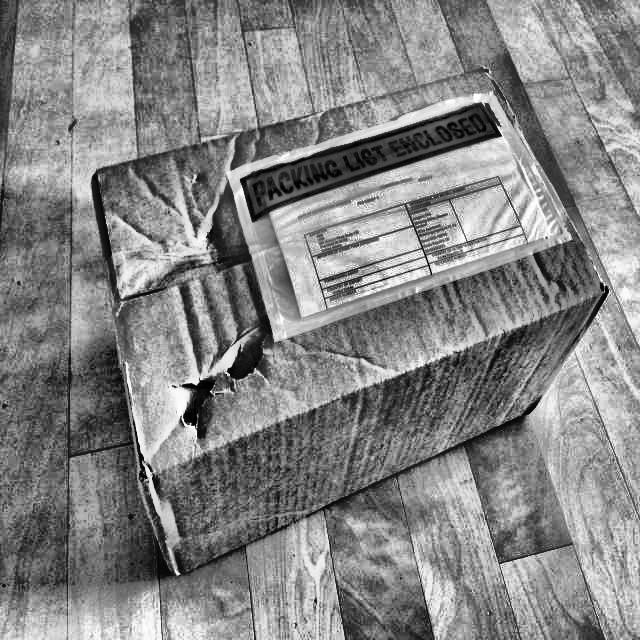box: (76, 78, 606, 581)
hole: (168, 367, 240, 435)
